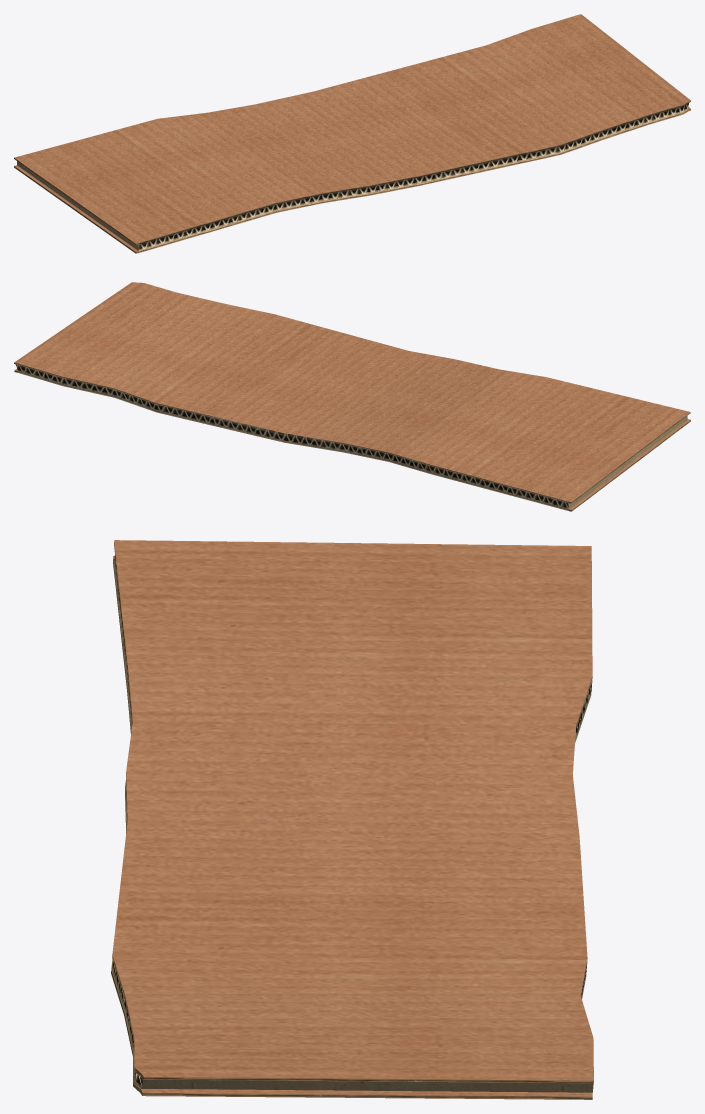
File: cardboard.fbx
The picture shows the model from 3 angles, top to bottom: view 1: azimuth 30°, elevation 25°; view 2: azimuth 150°, elevation 25°; view 3: azimuth 270°, elevation 25°; orthographic projection. The views are drawn at different scales.
Visible parts, largest first — view 1: cardboard; view 2: cardboard; view 3: cardboard.
Boxes of the visible parts, bbox=[...] form: cardboard: bbox=[14, 14, 690, 253]; cardboard: bbox=[14, 282, 690, 511]; cardboard: bbox=[111, 540, 593, 1099].
Size of the model in its own units: 2.43 by 0.082 by 0.9114.
